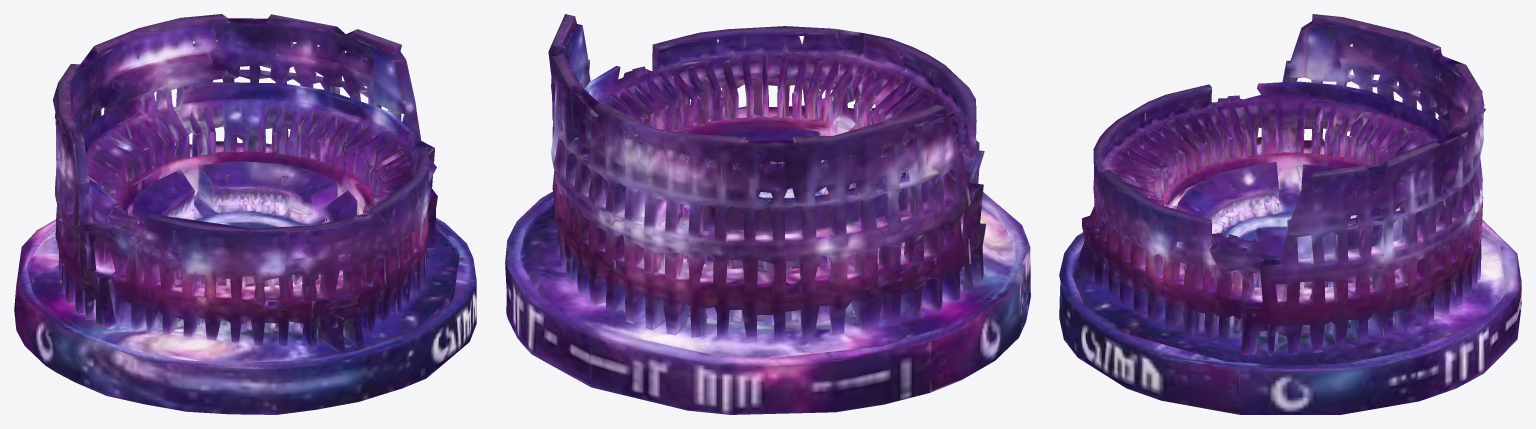
The model's file is Colosseum_celestial.glb.
3 views of the same model, side by side, from view 1: azimuth 30°, elevation 25°; view 2: azimuth 150°, elevation 25°; view 3: azimuth 270°, elevation 25° (orthographic). The views are drawn at different scales.
Visible parts, largest first — view 1: Mesh_0; view 2: Mesh_0; view 3: Mesh_0.
Part boxes in pixels (<box>): Mesh_0: <box>14,14,476,414</box>; Mesh_0: <box>505,14,1030,414</box>; Mesh_0: <box>1059,14,1521,414</box>.
Bounding box in the file's own units: 1.91 × 1.03 × 1.91.
Materials: 1 (1 with a texture image).
